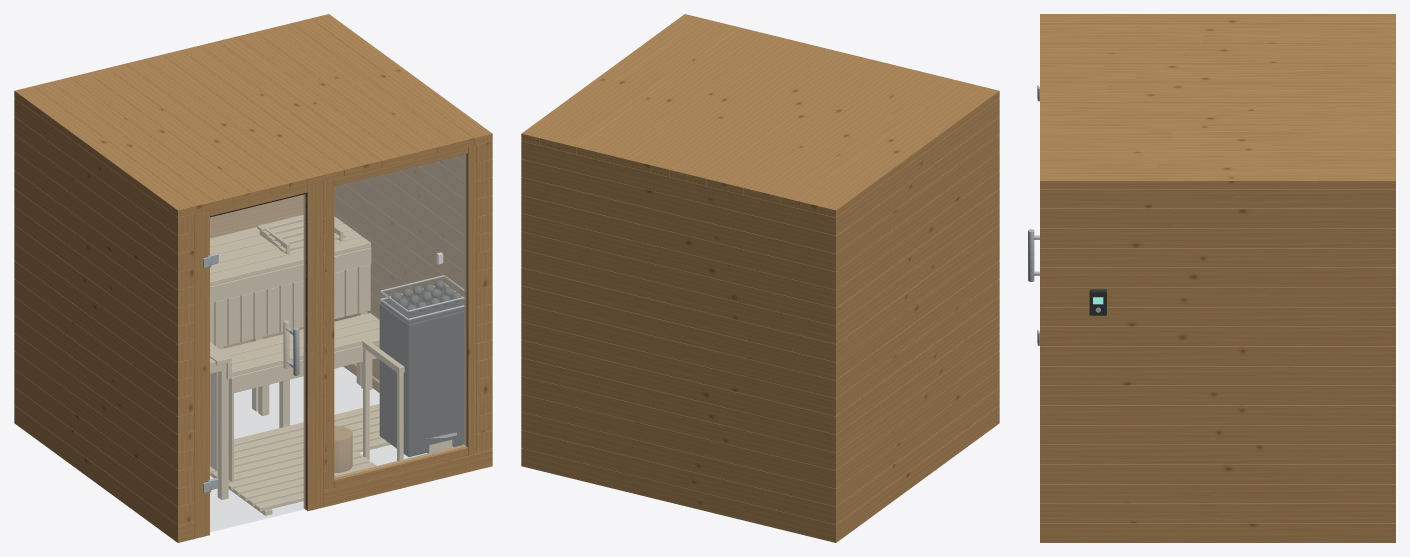
Rendered from fichte-fenster-l.glb.
3 views of the same model, side by side, from view 1: azimuth 30°, elevation 25°; view 2: azimuth 150°, elevation 25°; view 3: azimuth 270°, elevation 25° (orthographic). The views are drawn at different scales.
Parts seen in each view (by area): view 1: Window glass 8mm, Door glass 8mm, Heater casing, Door jamb.001, Door jamb, Ceiling board 01, Window jamb.001, Ceiling board 17, Ceiling board 07, Ceiling board 14, Ceiling board 16, Ceiling board 03 (+76 smaller); view 2: Back board 10, Back board 11, Back board 12, Back board 13, Back board 14, Back board 15, Back board 16, Back board 17, Back board 01, Back board 03, Back board 04, Back board 07 (+41 smaller); view 3: Right board 02, Right board 05, Right board 08, Right board 11, Right board 14, Right board 17, Right board 01, Right board 03, Right board 04, Right board 06, Right board 07, Right board 09 (+23 smaller).
Part boxes in pixels (x1,y1,x2,y2): Window glass 8mm: (334,154,466,477); Door glass 8mm: (210,194,305,532); Heater casing: (379,303,464,456); Door jamb.001: (303,182,323,510); Door jamb: (194,209,209,538); Ceiling board 01: (14,86,196,217); Window jamb.001: (464,144,475,455); Ceiling board 17: (311,14,492,144); Ceiling board 07: (126,59,307,190); Ceiling board 14: (255,27,436,158); Ceiling board 16: (292,18,473,149); Ceiling board 03: (51,77,233,208); Back board 10: (521,285,835,380); Back board 11: (521,267,835,362); Back board 12: (521,249,835,343); Back board 13: (521,231,835,325); Back board 14: (521,213,835,307); Back board 15: (521,195,835,289); Back board 16: (521,177,835,271); Back board 17: (521,159,835,253); Back board 01: (521,448,835,542); Back board 03: (521,412,835,506); Back board 04: (521,394,835,488); Back board 07: (521,340,835,434); Right board 02: (1040,503,1395,523); Right board 05: (1040,444,1395,464); Right board 08: (1040,385,1395,405); Right board 11: (1040,326,1395,346); Right board 14: (1040,267,1395,287); Right board 17: (1040,208,1395,228); Right board 01: (1040,523,1395,542); Right board 03: (1040,484,1395,503); Right board 04: (1040,464,1395,483); Right board 06: (1040,425,1395,444); Right board 07: (1040,405,1395,424); Right board 09: (1040,366,1395,385).
Bounding box in the file's own units: 2.04 × 2.02 × 1.86.
Materials: 11 (2 with a texture image).
